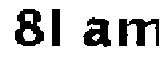8: (12, 7, 46, 51)
I: (47, 2, 66, 51)
a: (83, 16, 112, 51)
m: (114, 13, 160, 49)
